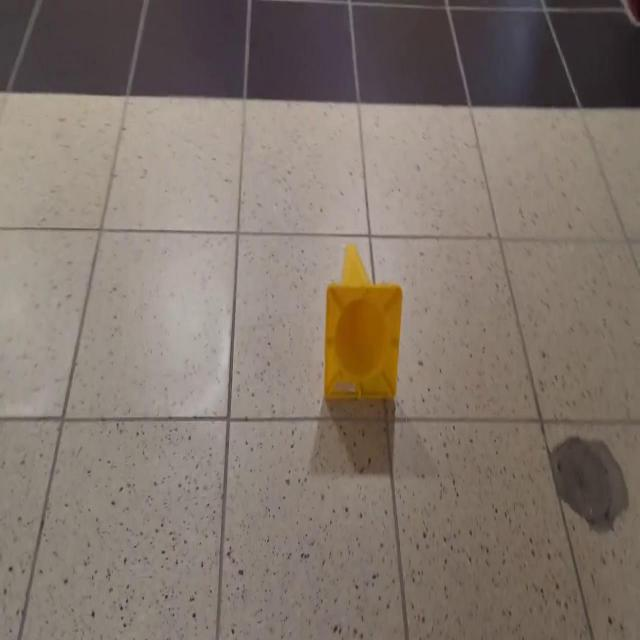frc_cone: (325, 242, 403, 402)
